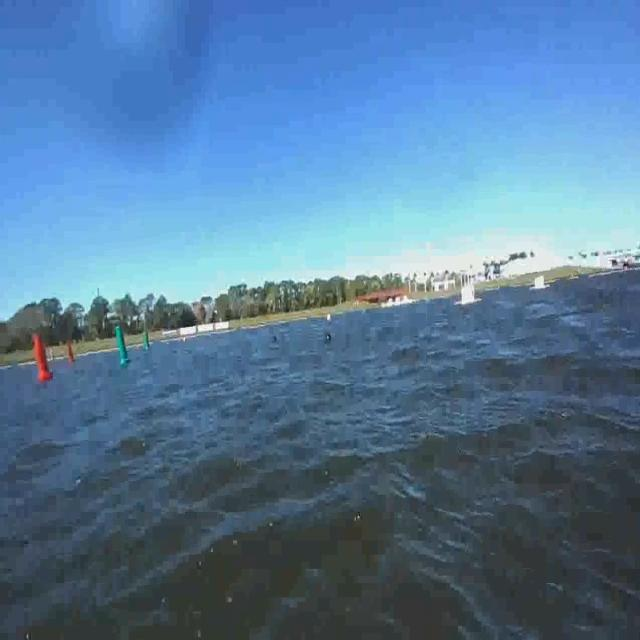black-buoy: (325, 334, 331, 344), (272, 336, 278, 343)
green-column-buoy: (113, 326, 131, 367), (142, 330, 150, 350)
red-column-buoy: (31, 331, 54, 382), (67, 339, 76, 364)
